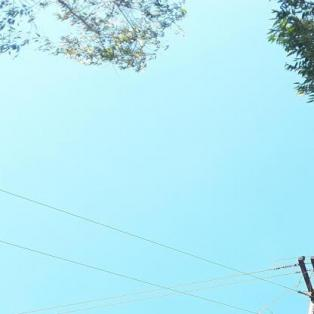Poste: (235, 268, 314, 314)
